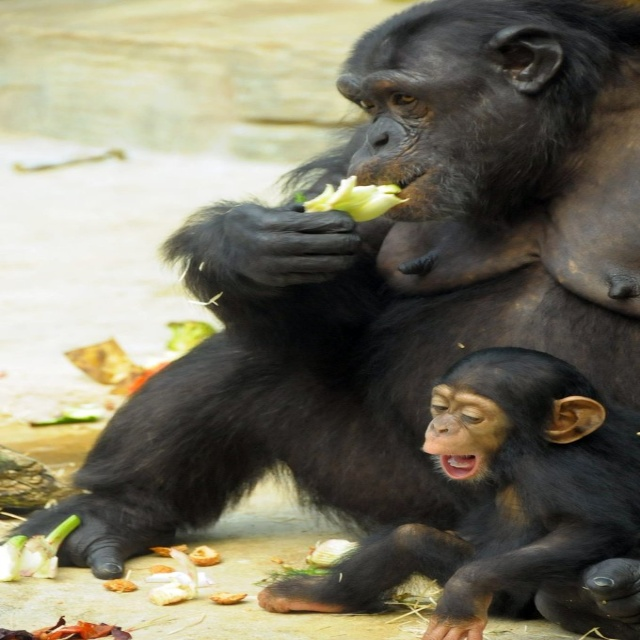Monkey: (45, 0, 624, 624)
